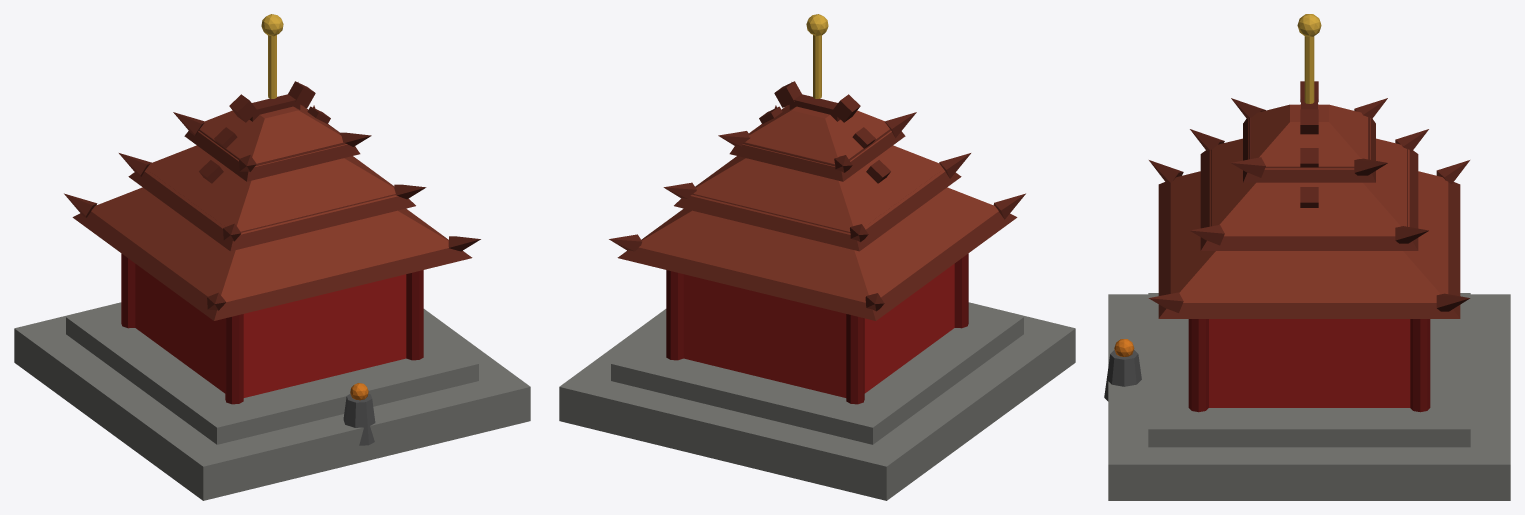
Rendered from SM_GZ_temple_ember.fbx.
3 renders of one model, left to right at view 1: azimuth 30°, elevation 25°; view 2: azimuth 150°, elevation 25°; view 3: azimuth 270°, elevation 25°, orthographic. The views are drawn at different scales.
Parts seen in each view (by area): view 1: SM_GZ_temple_ember; view 2: SM_GZ_temple_ember; view 3: SM_GZ_temple_ember.
Part boxes in pixels (x1,y1,x2,y2): SM_GZ_temple_ember: (14, 14, 530, 500); SM_GZ_temple_ember: (559, 14, 1075, 500); SM_GZ_temple_ember: (1104, 14, 1510, 500).
Size of the model in its own units: 1000 by 1100 by 1010.
